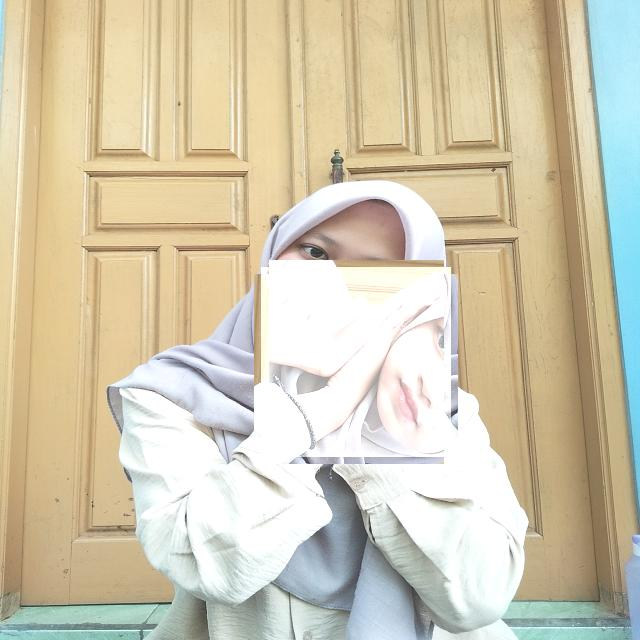tidur: (261, 267, 451, 457)
